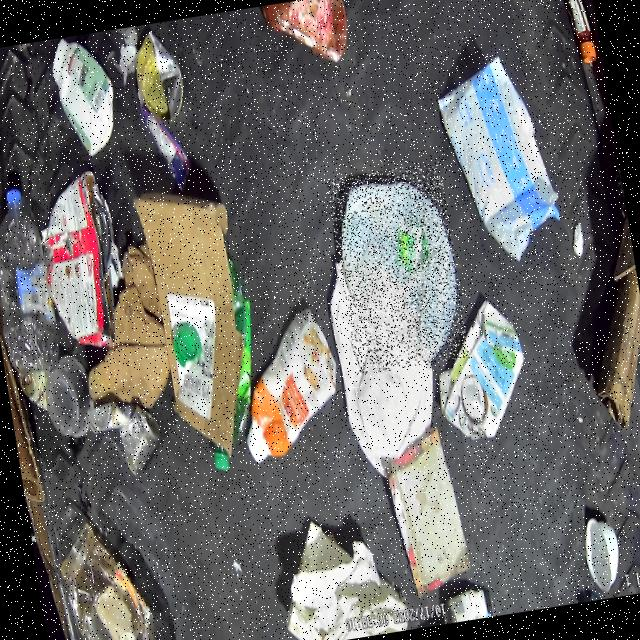milk-jug: (325, 160, 470, 376)
